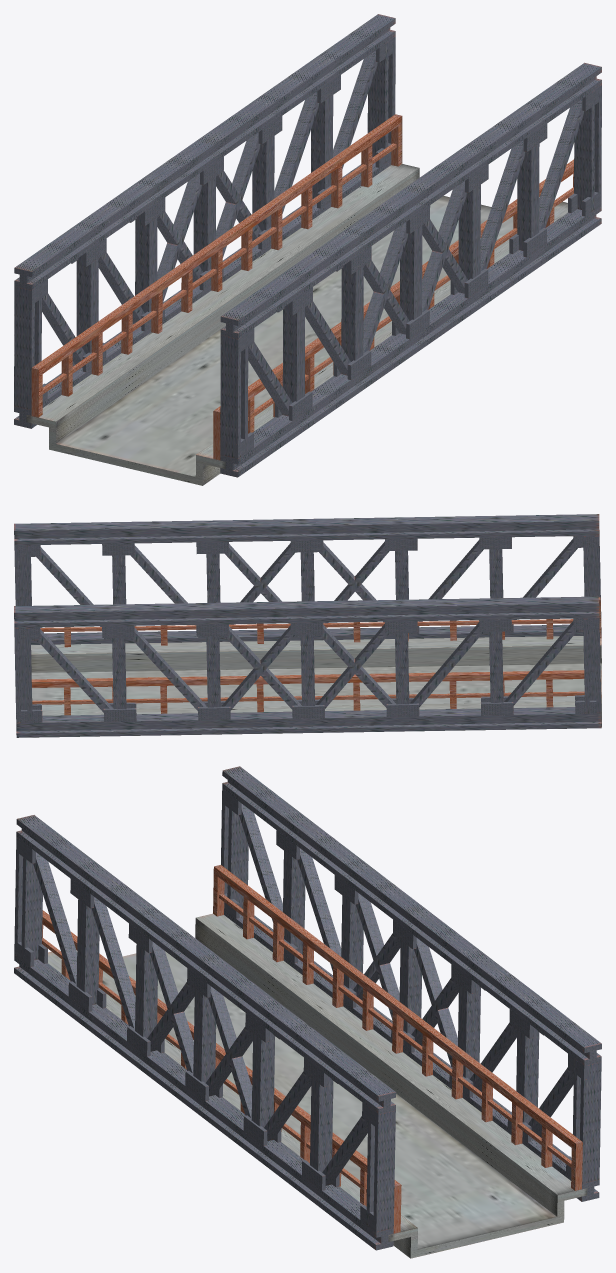
File: GMLID_BUI51891_765_738.gltf
3 views of the same model, one above another, from view 1: azimuth 30°, elevation 25°; view 2: azimuth 150°, elevation 25°; view 3: azimuth 270°, elevation 25° (orthographic). The views are drawn at different scales.
Visible parts, largest first — view 1: Z_UP; view 2: Z_UP; view 3: Z_UP.
Boxes of the visible parts, x1=… form: Z_UP: x1=14, y1=14, x2=601, y2=485; Z_UP: x1=14, y1=514, x2=601, y2=737; Z_UP: x1=14, y1=766, x2=601, y2=1258.
Size of the model in its own units: 34.59 by 9.31 by 26.81.
1 material, 1 textured.
